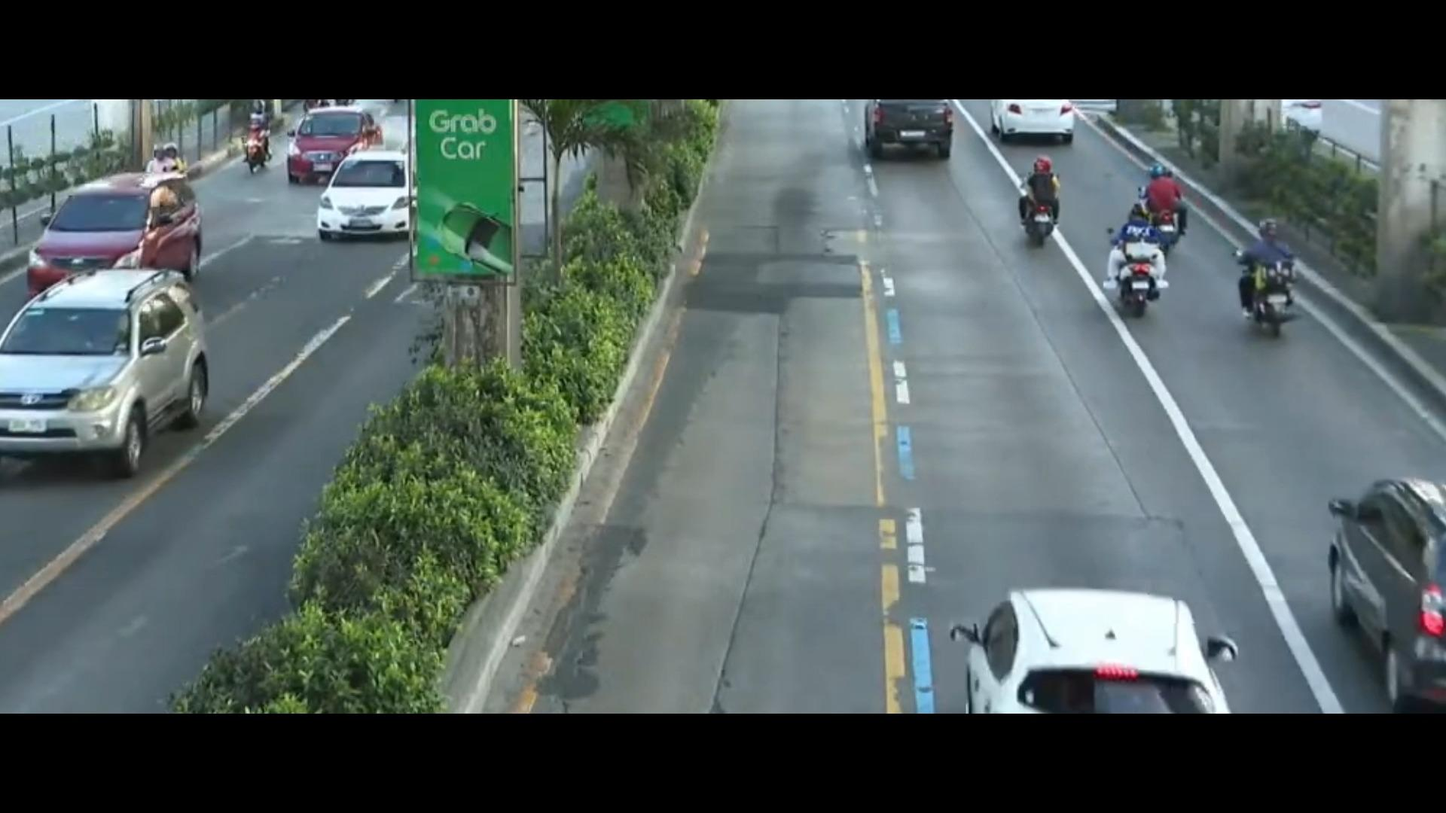Motorcycle: (1218, 216, 1318, 344), (1108, 209, 1180, 336), (1005, 156, 1080, 260), (1126, 154, 1188, 256), (226, 103, 284, 186)
SUV: (1, 261, 221, 476), (919, 563, 1228, 715), (1293, 437, 1446, 707), (25, 176, 201, 296), (280, 96, 382, 183)
Sedan: (304, 144, 425, 264)
